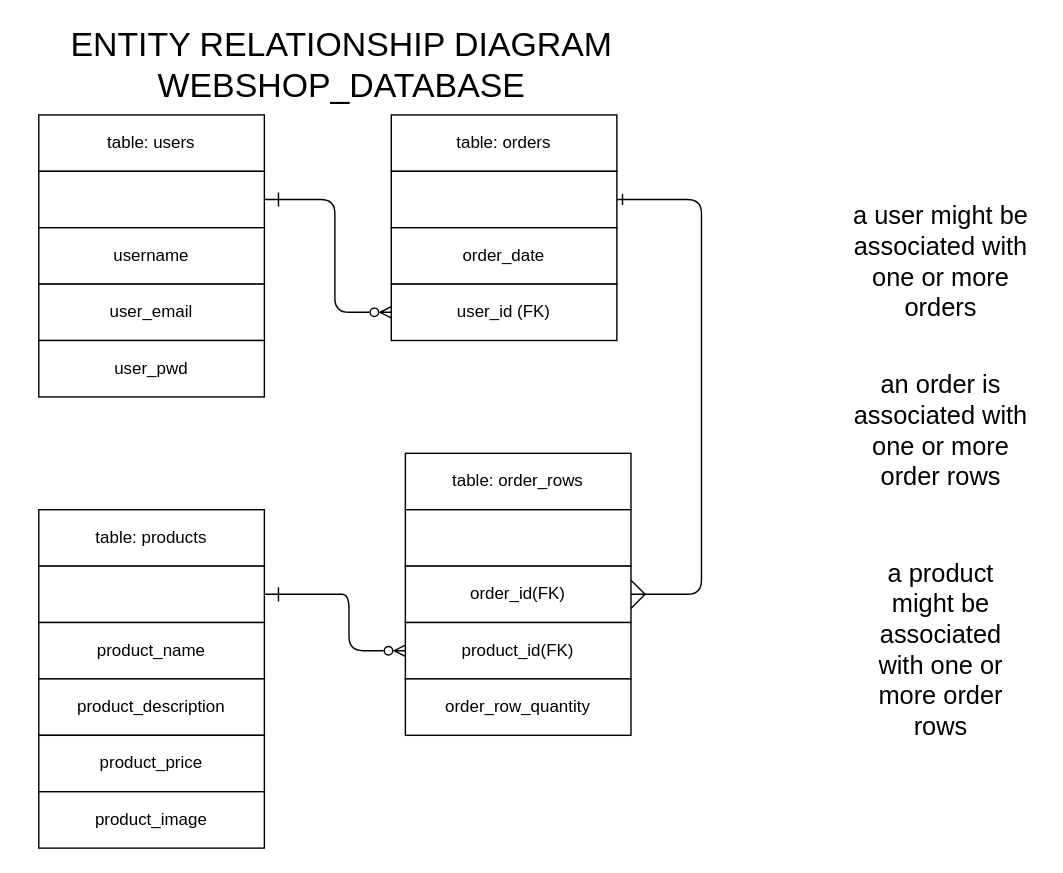
This 1063x873 diagram has some shape labels left out. The shapes that lost their labels are listed below. From the top down, each one's centre as x and y in pixels, then its label:
At (150,199): "user_id (PK)".
At (503,199): "order_id (PK)".
At (517,537): "order_row Id(PK)".
At (150,594): "product_id (PK)".
